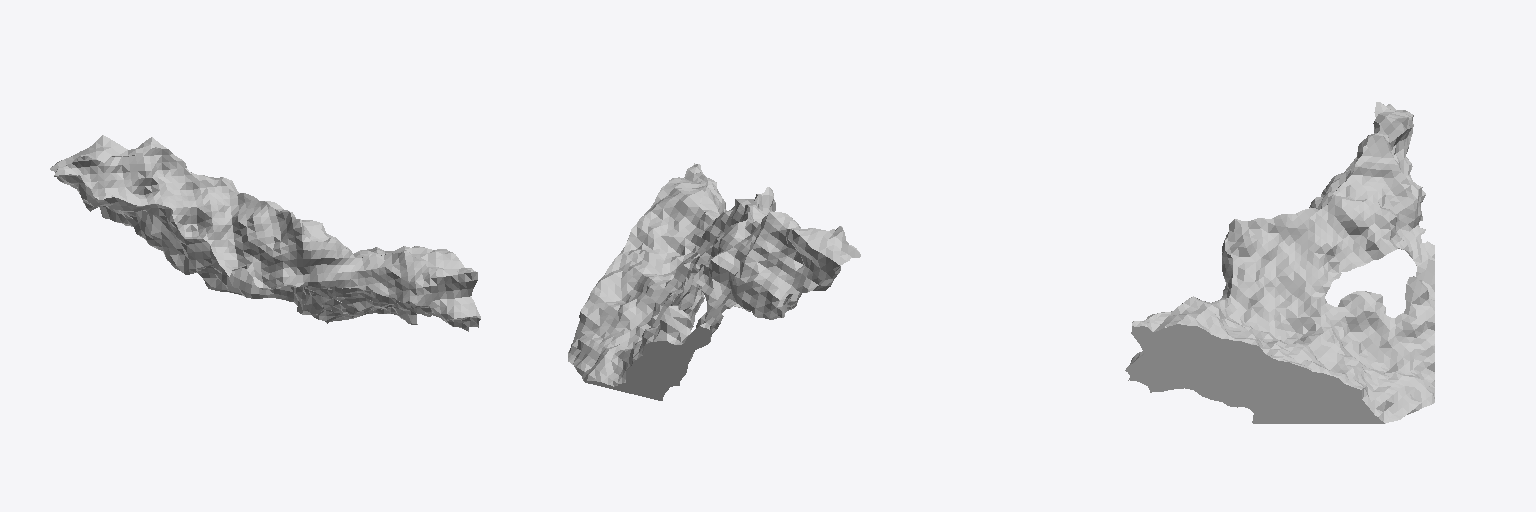
The model's file is cube_20_seed_4_shard.001.obj.
3 views of the same model, side by side, from view 1: azimuth 30°, elevation 25°; view 2: azimuth 150°, elevation 25°; view 3: azimuth 270°, elevation 25° (orthographic).
Parts seen in each view (by area): view 1: Cube_shard.001_Cube_shard.141; view 2: Cube_shard.001_Cube_shard.141; view 3: Cube_shard.001_Cube_shard.141.
Boxes of the visible parts, <box> form: Cube_shard.001_Cube_shard.141: <box>50,135,480,331</box>; Cube_shard.001_Cube_shard.141: <box>568,163,860,400</box>; Cube_shard.001_Cube_shard.141: <box>1125,102,1434,423</box>.
Size of the model in its own units: 1.79 by 1.11 by 1.63.